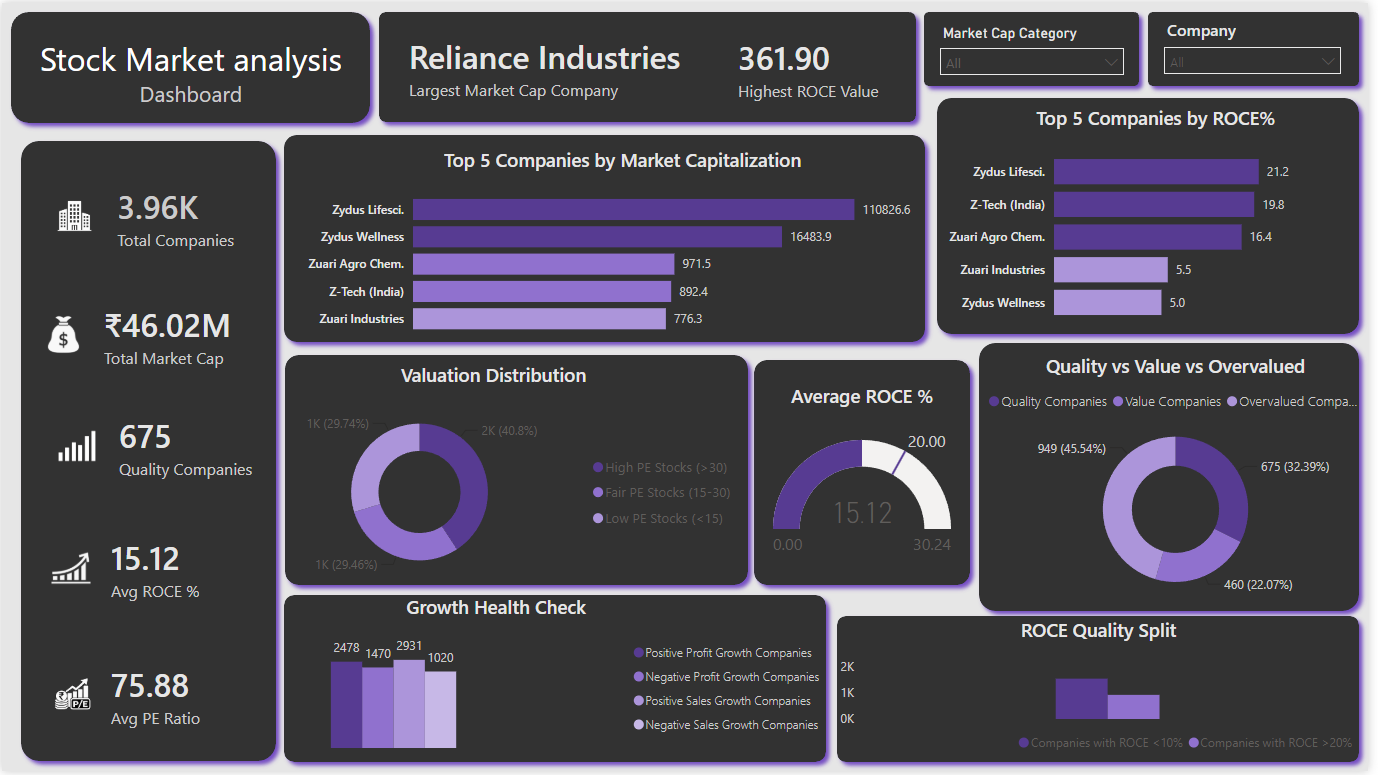

This screenshot's page, from the dashboard's own definition file:
{"tool":"powerbi","page":{"name":"Page 1","canvas":[1366,768],"ordinal":0},"visuals":[{"type":"shape","box":[743,348,234,243],"z":0},{"type":"shape","box":[273.3,583.3,560,184.4],"z":1000},{"type":"shape","box":[273.8,343.3,481,248],"z":2000},{"type":"shape","box":[967.8,331.1,397.8,285.6],"z":3000},{"type":"shape","box":[10,129,273,638.4],"z":4000},{"type":"shape","box":[0,0,377,129],"z":5000},{"type":"textbox","box":[10,28,358,95],"z":6000},{"type":"shape","box":[273.3,123.3,658.9,224.4],"z":7000},{"type":"barChart","title":"Top 5 Companies by Market Capitalization","fields":{"Category":["Indian Stock Market.Company"],"Y":["Sum(Indian Stock Market.Market Cap Crore)"]},"box":[300,135.6,641,207],"z":8000},{"type":"shape","box":[926,86,440,254.4],"z":9000},{"type":"donutChart","title":"Quality vs Value vs Overvalued","fields":{"Y":["Indian Stock Market Measures.Quality Companies","Indian Stock Market Measures.Value Companies","Indian Stock Market Measures.Overvalued Companies"]},"box":[981,342,385,264],"z":10000},{"type":"barChart","title":"Top 5 Companies by ROCE%","fields":{"Category":["Indian Stock Market.Company"],"Y":["Sum(Indian Stock Market.ROCE Percent)"]},"box":[941,94,425,237],"z":11000},{"type":"shape","box":[825.6,604.4,540,163.3],"z":12000},{"type":"clusteredColumnChart","title":"ROCE Quality Split","fields":{"Y":["Indian Stock Market Measures.Companies with ROCE <10%","Indian Stock Market Measures.Companies with ROCE >20%"]},"box":[833.3,614.4,526.7,143.3],"z":13000},{"type":"donutChart","title":"Valuation Distribution","fields":{"Y":["Indian Stock Market Measures.High PE Stocks (>30)","Indian Stock Market Measures.Fair PE Stocks (15-30)","Indian Stock Market Measures.Low PE Stocks (<15)"]},"box":[240,358.9,503.3,224.4],"z":14000},{"type":"cardVisual","fields":{"Data":["Indian Stock Market Measures.Total Market Cap"]},"box":[3.7,265.4,269.7,132.5],"z":15000},{"type":"cardVisual","fields":{"Data":["Indian Stock Market Measures.Quality Companies"]},"box":[16,378.7,280,128],"z":16000},{"type":"cardVisual","fields":{"Data":["Indian Stock Market Measures.Average ROCE %"]},"box":[12.4,487.4,264.1,155.5],"z":17000},{"type":"cardVisual","fields":{"Data":["Indian Stock Market Measures.Average PE Ratio"]},"box":[16.2,623.7,256.6,135.8],"z":18000},{"type":"cardVisual","fields":{"Data":["Indian Stock Market Measures.Total Companies"]},"box":[22,141.6,274,143],"z":19000},{"type":"shape","box":[1136.7,0,228.9,92.2],"z":20000},{"type":"slicer","fields":{"Values":["Indian Stock Market.Company"]},"box":[1152.2,11.1,196.7,64.4],"z":21000},{"type":"clusteredColumnChart","title":"Growth Health Check","fields":{"Y":["Indian Stock Market Measures.Positive Profit Growth Companies","Indian Stock Market Measures.Negative Profit Growth Companies","Indian Stock Market Measures.Positive Sales Growth Companies","Indian Stock Market Measures.Negative Sales Growth Companies"]},"box":[156,583,676,168],"z":22000},{"type":"gauge","fields":{"Y":["Indian Stock Market Measures.Average ROCE %"]},"box":[738.9,380,242.2,182.2],"z":23000},{"type":"shape","box":[367.8,0,555,128.3],"z":24000},{"type":"cardVisual","title":"  bbb","fields":{"Data":["Indian Stock Market.Highest ROCE Value"]},"box":[695.6,0,282.2,128.9],"z":25000},{"type":"cardVisual","fields":{"Data":["Indian Stock Market.Largest Market Cap Company"]},"box":[377.8,7.8,351.1,112.2],"z":26000},{"type":"shape","box":[913.3,0,232.2,92.2],"z":26500},{"type":"slicer","fields":{"Values":["Indian Stock Market.Market Cap Category"]},"box":[927.8,16.7,204.4,62.2],"z":27000}]}

Visuals, with their boxes in screenshot pixels (x1, y1, x2, y2), scaled from the page's 1366x768 canvas onto the 1378x775 screenshot:
shape: BBox(750, 351, 986, 596)
shape: BBox(276, 589, 841, 774)
shape: BBox(276, 346, 761, 597)
shape: BBox(976, 334, 1377, 622)
shape: BBox(10, 130, 285, 774)
shape: BBox(0, 0, 380, 130)
textbox: BBox(10, 28, 371, 124)
shape: BBox(276, 124, 940, 351)
"Top 5 Companies by Market Capitalization" barChart: BBox(303, 137, 949, 346)
shape: BBox(934, 87, 1377, 344)
"Quality vs Value vs Overvalued" donutChart: BBox(990, 345, 1377, 612)
"Top 5 Companies by ROCE%" barChart: BBox(949, 95, 1377, 334)
shape: BBox(833, 610, 1377, 774)
"ROCE Quality Split" clusteredColumnChart: BBox(841, 620, 1372, 765)
"Valuation Distribution" donutChart: BBox(242, 362, 750, 589)
cardVisual - Indian Stock Market Measures.Total Market Cap: BBox(4, 268, 276, 402)
cardVisual - Indian Stock Market Measures.Quality Companies: BBox(16, 382, 299, 511)
cardVisual - Indian Stock Market Measures.Average ROCE %: BBox(13, 492, 279, 649)
cardVisual - Indian Stock Market Measures.Average PE Ratio: BBox(16, 629, 275, 766)
cardVisual - Indian Stock Market Measures.Total Companies: BBox(22, 143, 299, 287)
shape: BBox(1147, 0, 1377, 93)
slicer - Indian Stock Market.Company: BBox(1162, 11, 1361, 76)
"Growth Health Check" clusteredColumnChart: BBox(157, 588, 839, 758)
gauge - Indian Stock Market Measures.Average ROCE %: BBox(745, 383, 990, 567)
shape: BBox(371, 0, 931, 129)
"  bbb" cardVisual: BBox(702, 0, 986, 130)
cardVisual - Indian Stock Market.Largest Market Cap Company: BBox(381, 8, 735, 121)
shape: BBox(921, 0, 1156, 93)
slicer - Indian Stock Market.Market Cap Category: BBox(936, 17, 1142, 80)
